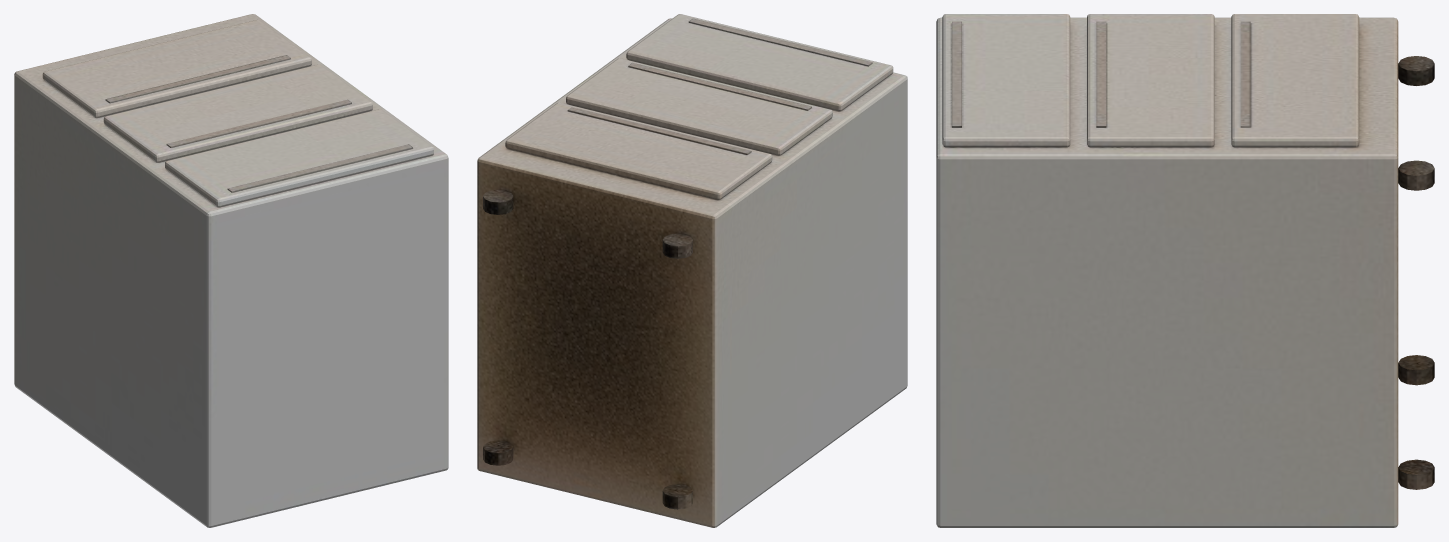
3 views of the same model, side by side, from view 1: azimuth 30°, elevation 25°; view 2: azimuth 150°, elevation 25°; view 3: azimuth 270°, elevation 25° (orthographic). The views are drawn at different scales.
Parts seen in each view (by area): view 1: E3_final_3.001; view 2: E3_final_3.001; view 3: E3_final_3.001.
Boxes of the visible parts, x1,y1,x2,y2 form: E3_final_3.001: (14,14,448,527); E3_final_3.001: (477,14,907,527); E3_final_3.001: (936,14,1434,527).
Bounding box in the file's own units: 0.4 × 0.516 × 0.604.
1 material, 1 textured.
